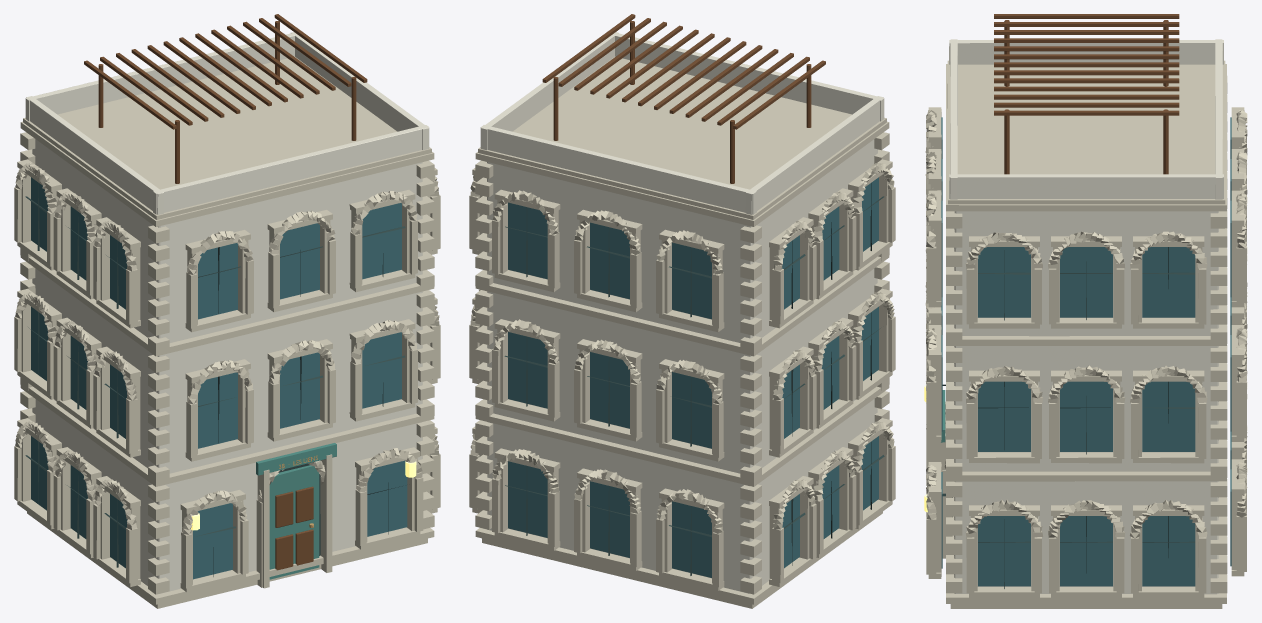
Rendered from algerie-3-lod.glb.
3 renders of one model, left to right at view 1: azimuth 30°, elevation 25°; view 2: azimuth 150°, elevation 25°; view 3: azimuth 270°, elevation 25°, orthographic. The views are drawn at different scales.
Parts seen in each view (by area): view 1: algerie-3_Dressed stone.001, algerie-3_Masonry plaster.001, algerie-3_Window blue.001, algerie-3_Walnut.001, algerie-3_Regional painted wood.001, algerie-3_Forged midnight.001; view 2: algerie-3_Dressed stone.001, algerie-3_Masonry plaster.001, algerie-3_Window blue.001, algerie-3_Walnut.001, algerie-3_Forged midnight.001; view 3: algerie-3_Dressed stone.001, algerie-3_Masonry plaster.001, algerie-3_Window blue.001, algerie-3_Walnut.001, algerie-3_Forged midnight.001.
Part boxes in pixels (<box>): algerie-3_Dressed stone.001: <box>14,56,440,608</box>; algerie-3_Masonry plaster.001: <box>25,32,429,593</box>; algerie-3_Window blue.001: <box>31,177,407,579</box>; algerie-3_Walnut.001: <box>84,14,367,570</box>; algerie-3_Regional painted wood.001: <box>256,443,336,579</box>; algerie-3_Forged midnight.001: <box>25,183,405,576</box>; algerie-3_Dressed stone.001: <box>469,56,895,608</box>; algerie-3_Masonry plaster.001: <box>480,32,884,593</box>; algerie-3_Window blue.001: <box>508,177,878,577</box>; algerie-3_Walnut.001: <box>542,14,825,183</box>; algerie-3_Forged midnight.001: <box>504,183,884,575</box>; algerie-3_Dressed stone.001: <box>925,60,1247,608</box>; algerie-3_Masonry plaster.001: <box>949,39,1223,594</box>; algerie-3_Window blue.001: <box>941,117,1231,586</box>; algerie-3_Walnut.001: <box>994,14,1179,174</box>; algerie-3_Forged midnight.001: <box>942,247,1195,588</box>.
Bounding box in the file's own units: 14.19 × 19.86 × 12.2.
